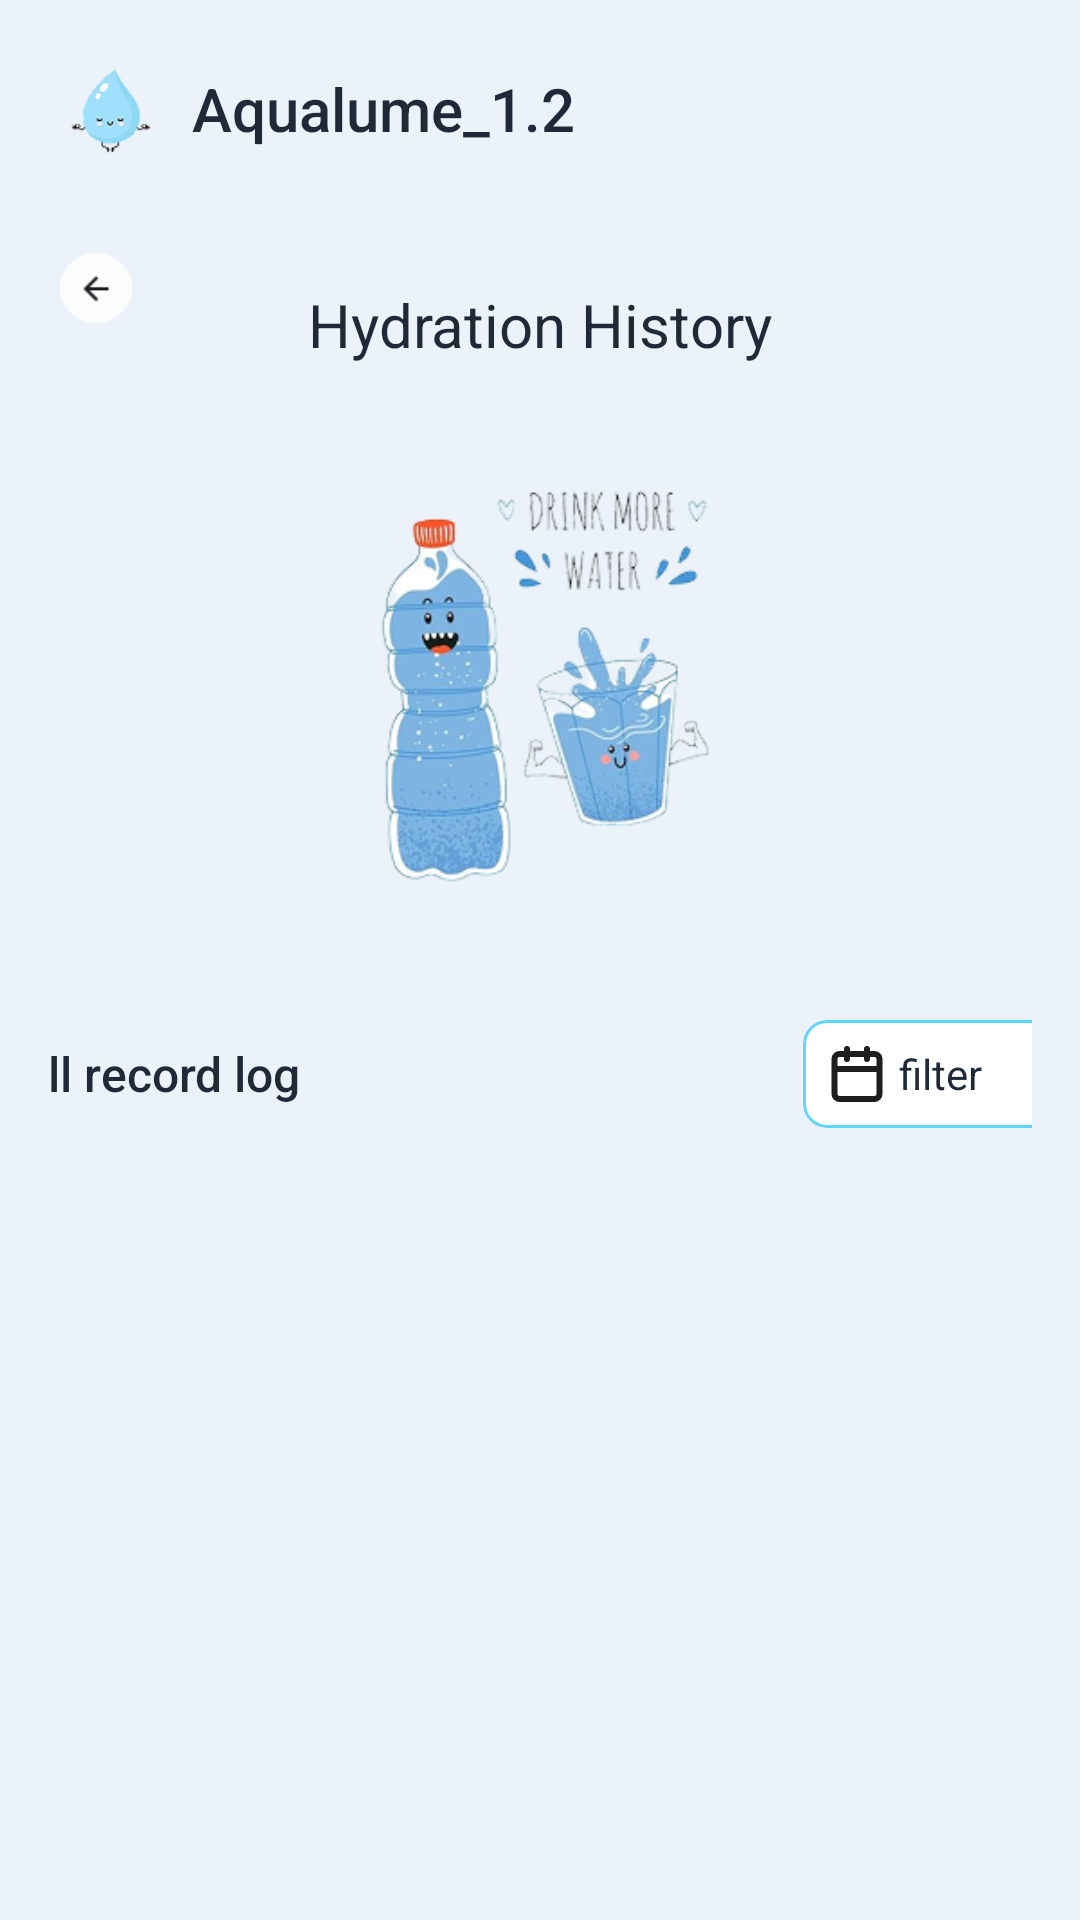

Icon click points for this 1080x1920 phone screenshot, format point (x, y):
Back2: point (96, 288)
